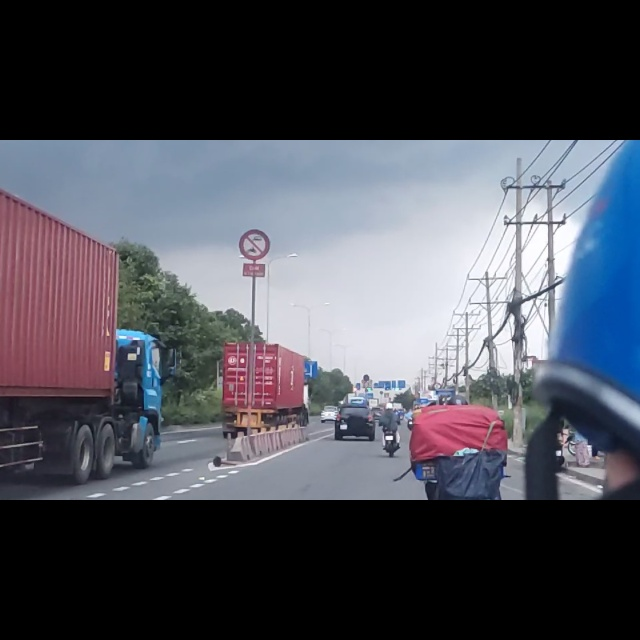bien_cam: (239, 159, 271, 213)
